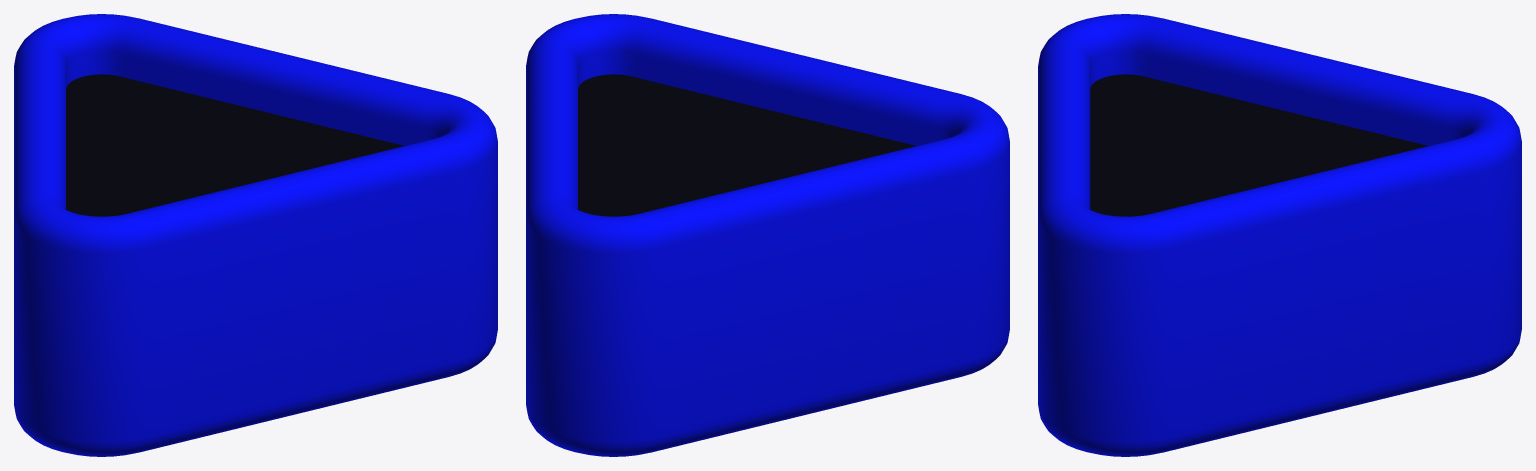
The model's file is Particle-12.dae.
3 views of the same model, side by side, from view 1: azimuth 30°, elevation 25°; view 2: azimuth 150°, elevation 25°; view 3: azimuth 270°, elevation 25° (orthographic).
Visible parts, largest first — view 1: Particle; view 2: Particle; view 3: Particle.
Part boxes in pixels (bbox=[...]): Particle: bbox=[14, 14, 497, 456]; Particle: bbox=[526, 14, 1009, 456]; Particle: bbox=[1038, 14, 1521, 456].
Size of the model in its own units: 0.1022 by 0.05 by 0.093.
